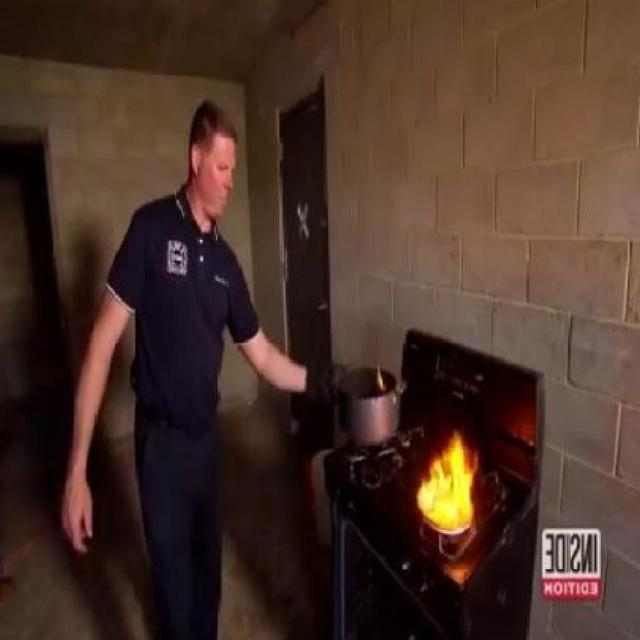smoke: (414, 420, 481, 540)
